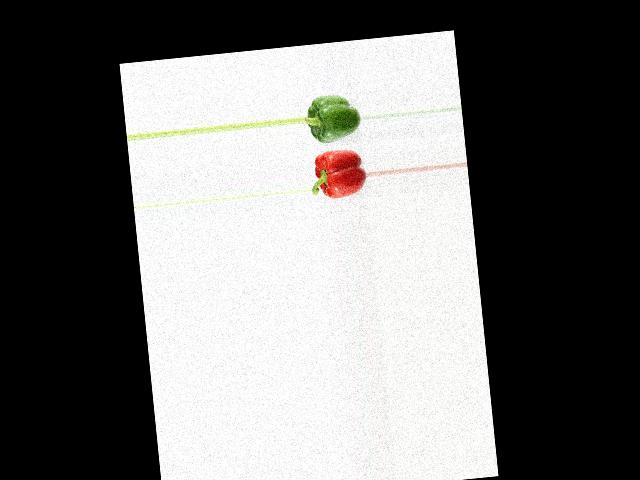bell_pepper: (303, 90, 360, 146)
